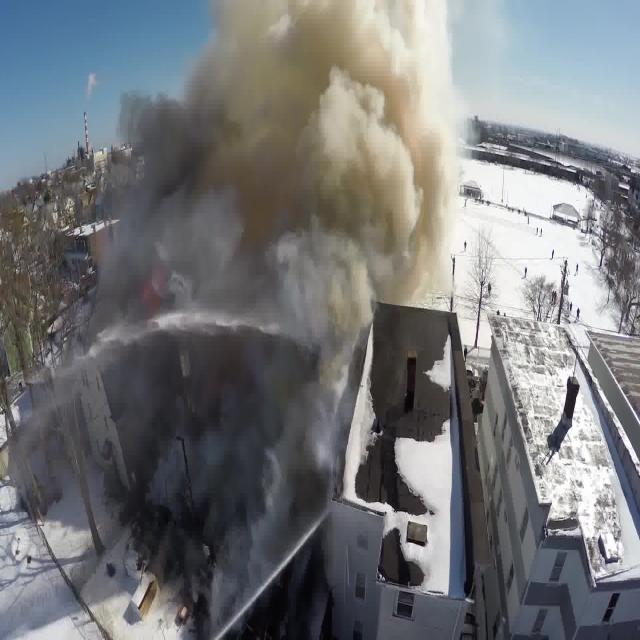Smoke: (100, 3, 447, 426)
